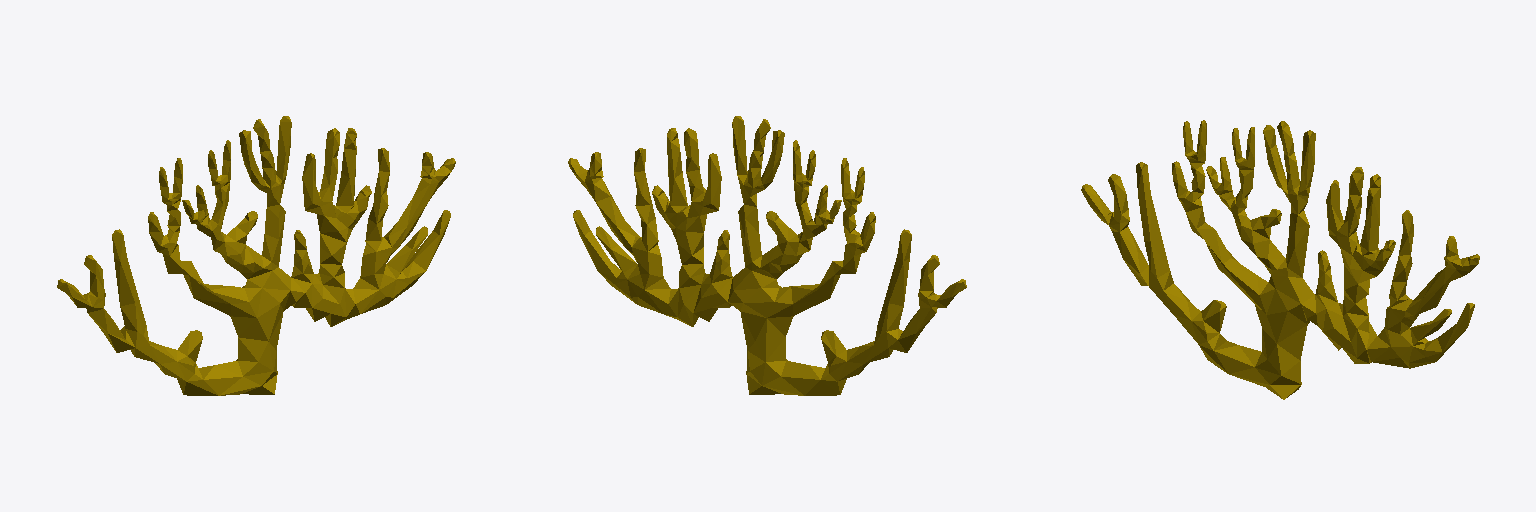
File: Coral.obj
3 views of the same model, side by side, from view 1: azimuth 30°, elevation 25°; view 2: azimuth 150°, elevation 25°; view 3: azimuth 330°, elevation 25° (orthographic).
Parts seen in each view (by area): view 1: Millepora_alcicornis; view 2: Millepora_alcicornis; view 3: Millepora_alcicornis.
Part boxes in pixels (bbox=[...]): Millepora_alcicornis: bbox=[57, 116, 455, 395]; Millepora_alcicornis: bbox=[568, 116, 966, 395]; Millepora_alcicornis: bbox=[1081, 120, 1479, 399].
Bounding box in the file's own units: 0.4569 × 0.2984 × 0.0331.